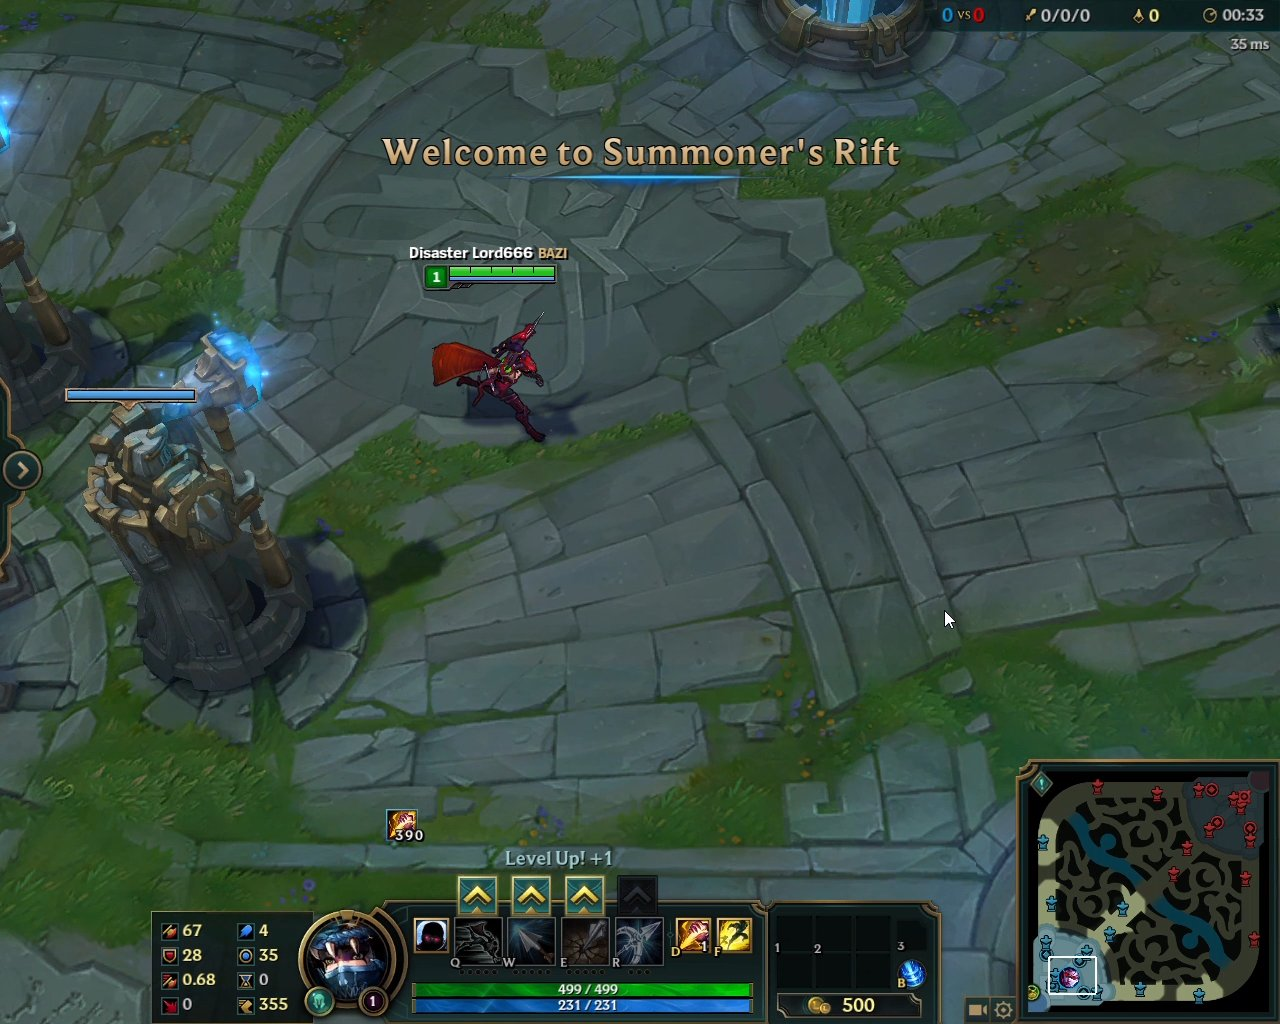Vayne: (432, 323, 545, 447)
